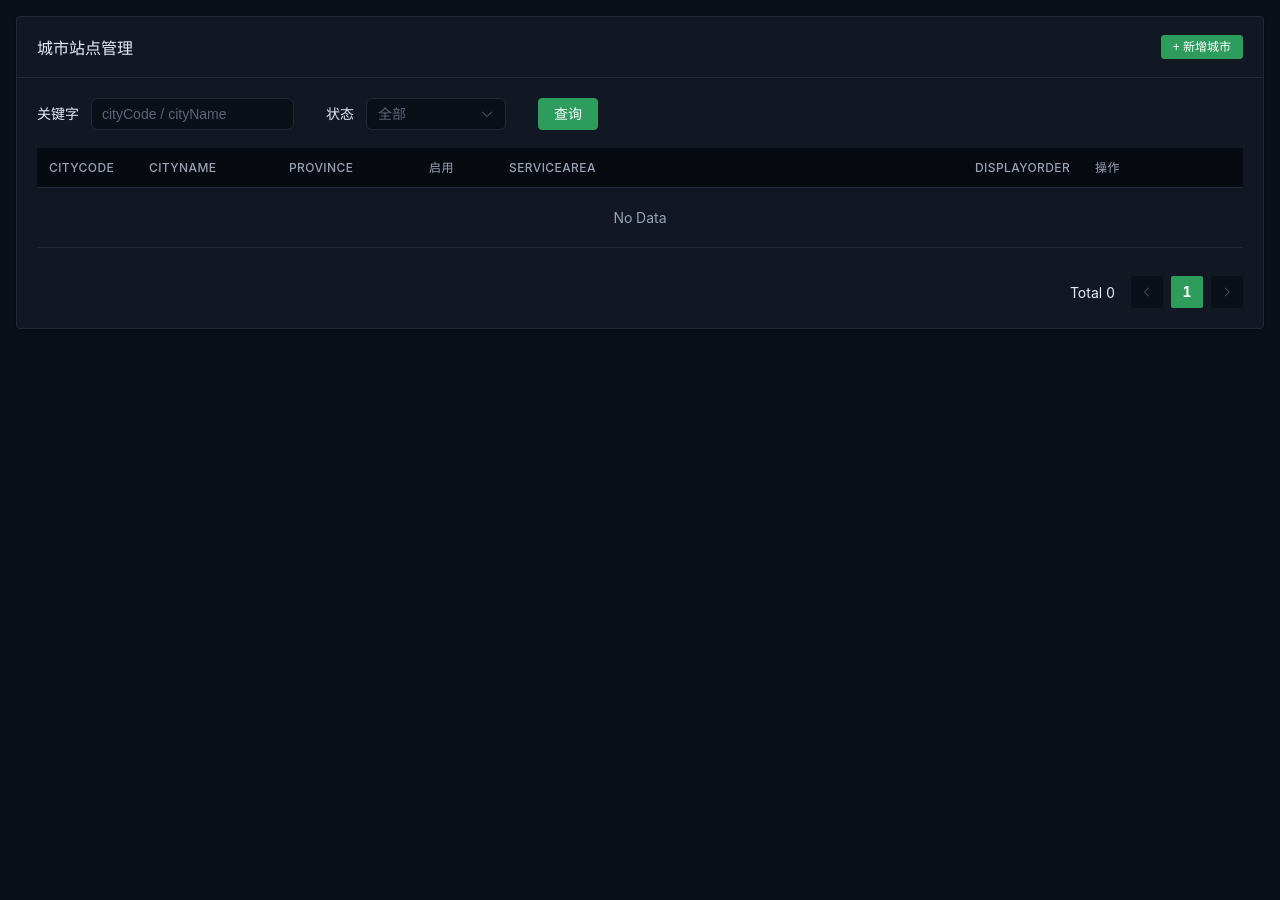
Test case: cities/index › 点新增按钮 → 弹 dialog 显示 cityCode 输入
What coordinates should you click on to do the following:
click the button "+ 新增城市"
I would click on:
 (1202, 47)
Its box is left=1161, top=35, right=1243, bottom=59.
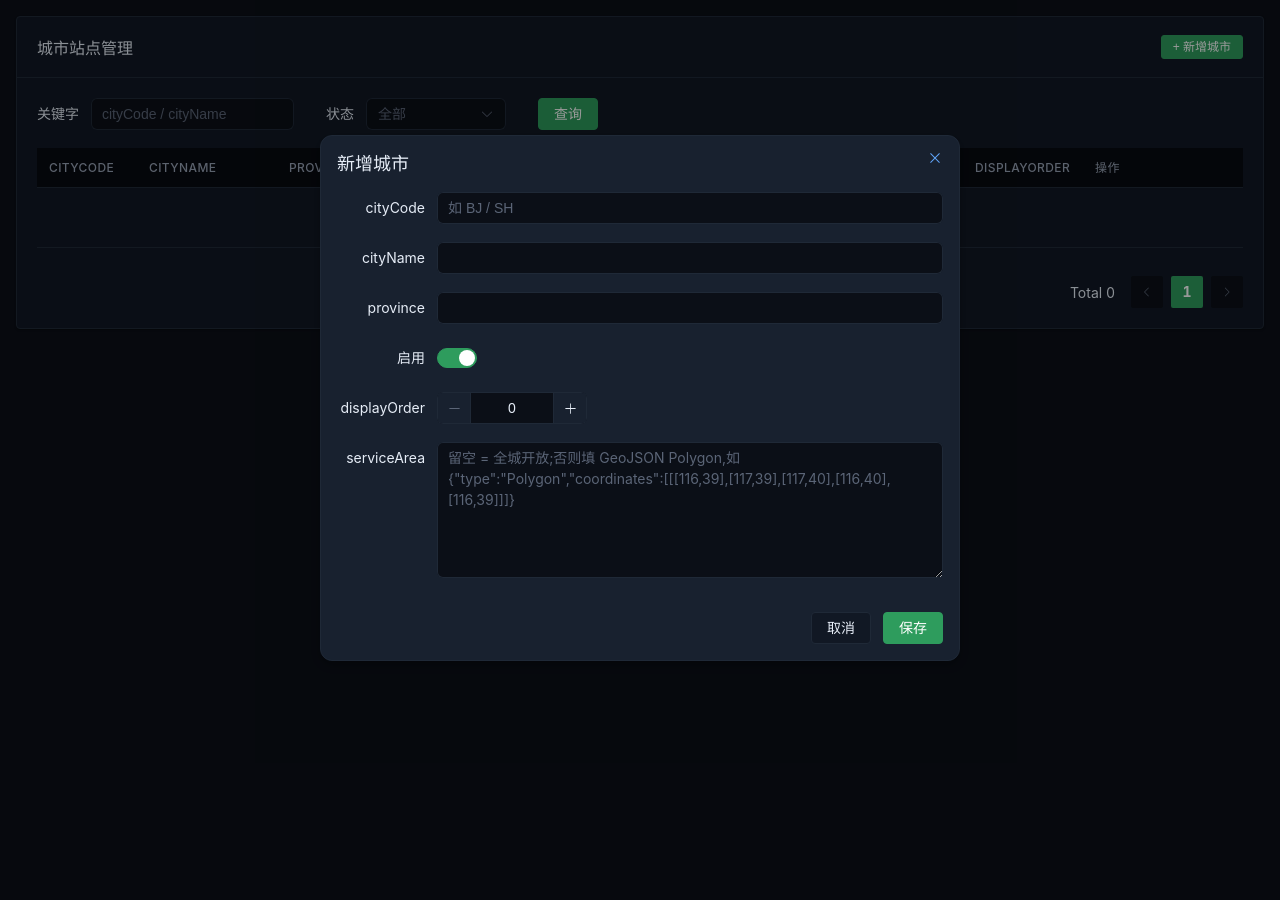
Now the element that starts with "新增城市" is shown, box left=320, top=135, right=960, bottom=661
